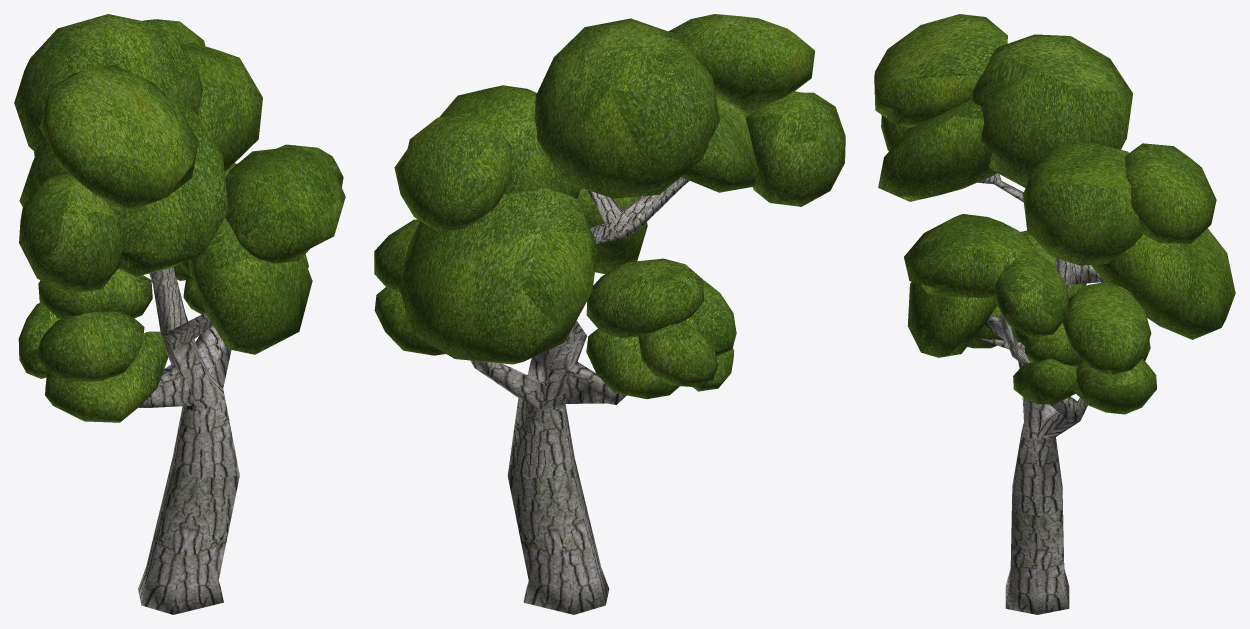
Rendered from Trees.fbx.
3 renders of one model, left to right at view 1: azimuth 30°, elevation 25°; view 2: azimuth 150°, elevation 25°; view 3: azimuth 270°, elevation 25°, orthographic. The views are drawn at different scales.
Visible parts, largest first — view 1: Tree; view 2: Tree; view 3: Tree.
Part boxes in pixels (x1,y1,x2,y2): Tree: (14,14,345,614); Tree: (374,14,845,614); Tree: (874,14,1235,614).
Size of the model in its own units: 11.91 by 11.34 by 18.28.
